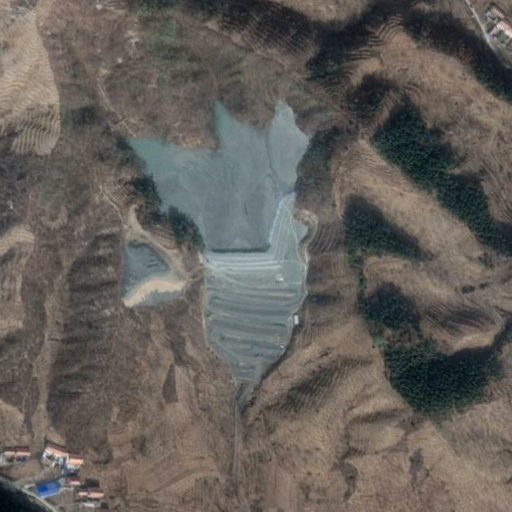tp: (125, 99, 312, 380)
